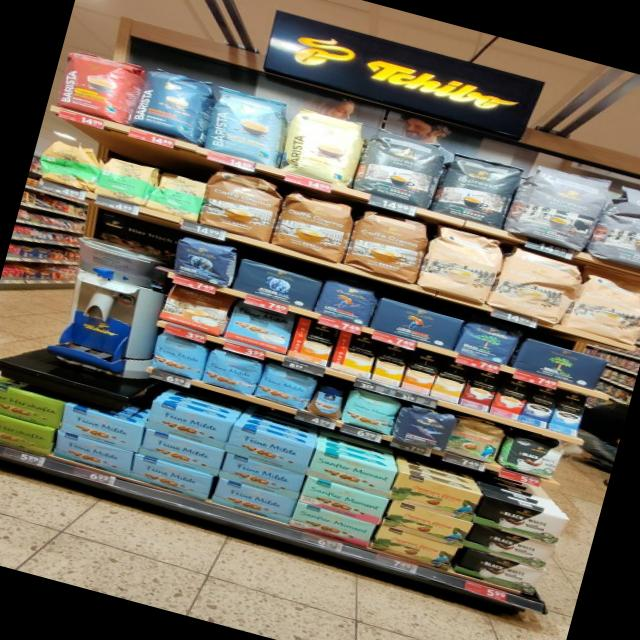AB Bohne: (170, 233, 236, 288)
AB Gemahlen: (230, 256, 324, 312)
Athiopien Bohne: (34, 136, 103, 192)
Athiopien Gemahlen: (142, 169, 210, 221), (91, 154, 156, 207)
BM Bohne: (454, 318, 522, 366)
BM Gemahlen: (510, 336, 610, 391)
BW Bohne: (496, 429, 571, 481)
BW Gemahlen: (471, 494, 571, 547), (462, 522, 559, 572), (449, 547, 546, 596)
Barista CB: (277, 104, 369, 188)
Barista CC: (202, 83, 292, 168)
Barista Espresso: (128, 66, 217, 147)
Barista Kolumbien: (49, 44, 146, 125)
C Fino Bohne: (393, 403, 458, 452)
CC Mild: (486, 246, 587, 324), (414, 223, 507, 304), (561, 268, 640, 346)
CC Vollmundig: (154, 282, 235, 337)
CC Vollmundig 36 Pads: (341, 204, 434, 287), (270, 185, 359, 265), (197, 164, 284, 243)
Colombia BB Bohne: (445, 416, 507, 465)
Colombia BB Gemahlen: (388, 470, 483, 522), (381, 500, 473, 548), (369, 525, 461, 571)
Espresso Aromatisch: (505, 161, 612, 253), (587, 182, 640, 269)
Espresso Kraftig: (351, 125, 448, 210), (429, 148, 525, 229)
FM 36 Pads: (221, 301, 297, 355)
FM Bohne: (252, 362, 317, 412), (199, 346, 263, 396), (147, 332, 209, 381)
FM Gemahlen: (143, 399, 233, 451), (225, 423, 315, 475), (218, 451, 305, 501), (59, 404, 145, 454), (136, 428, 225, 476), (129, 454, 214, 502), (209, 478, 297, 524), (52, 430, 135, 478)
FM Instant: (303, 382, 350, 420)
Herzhatfe Mundig: (0, 383, 68, 429), (0, 414, 56, 456)
LG Bohne: (313, 278, 379, 327)
LG Gemahlen: (368, 295, 464, 351)
SM Bohne: (340, 387, 402, 436)
SM Gemahlen: (305, 446, 397, 499), (298, 476, 389, 525), (289, 501, 377, 549)
Simo CCMild: (330, 330, 380, 379)
Simo CCMild bigpack: (370, 341, 411, 388)
Simo CCVollmundig: (285, 316, 339, 367)
Simo CCVollmundig bigpack: (400, 350, 442, 396)
Simo Decaff: (430, 358, 472, 404)
Simo Es Brazil: (488, 375, 534, 421)
Simo Es Caramel: (458, 367, 502, 413), (518, 385, 562, 430)
Simo Es Vanilla: (548, 390, 590, 437)
